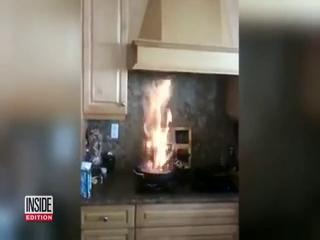Fire: (136, 84, 182, 177)
